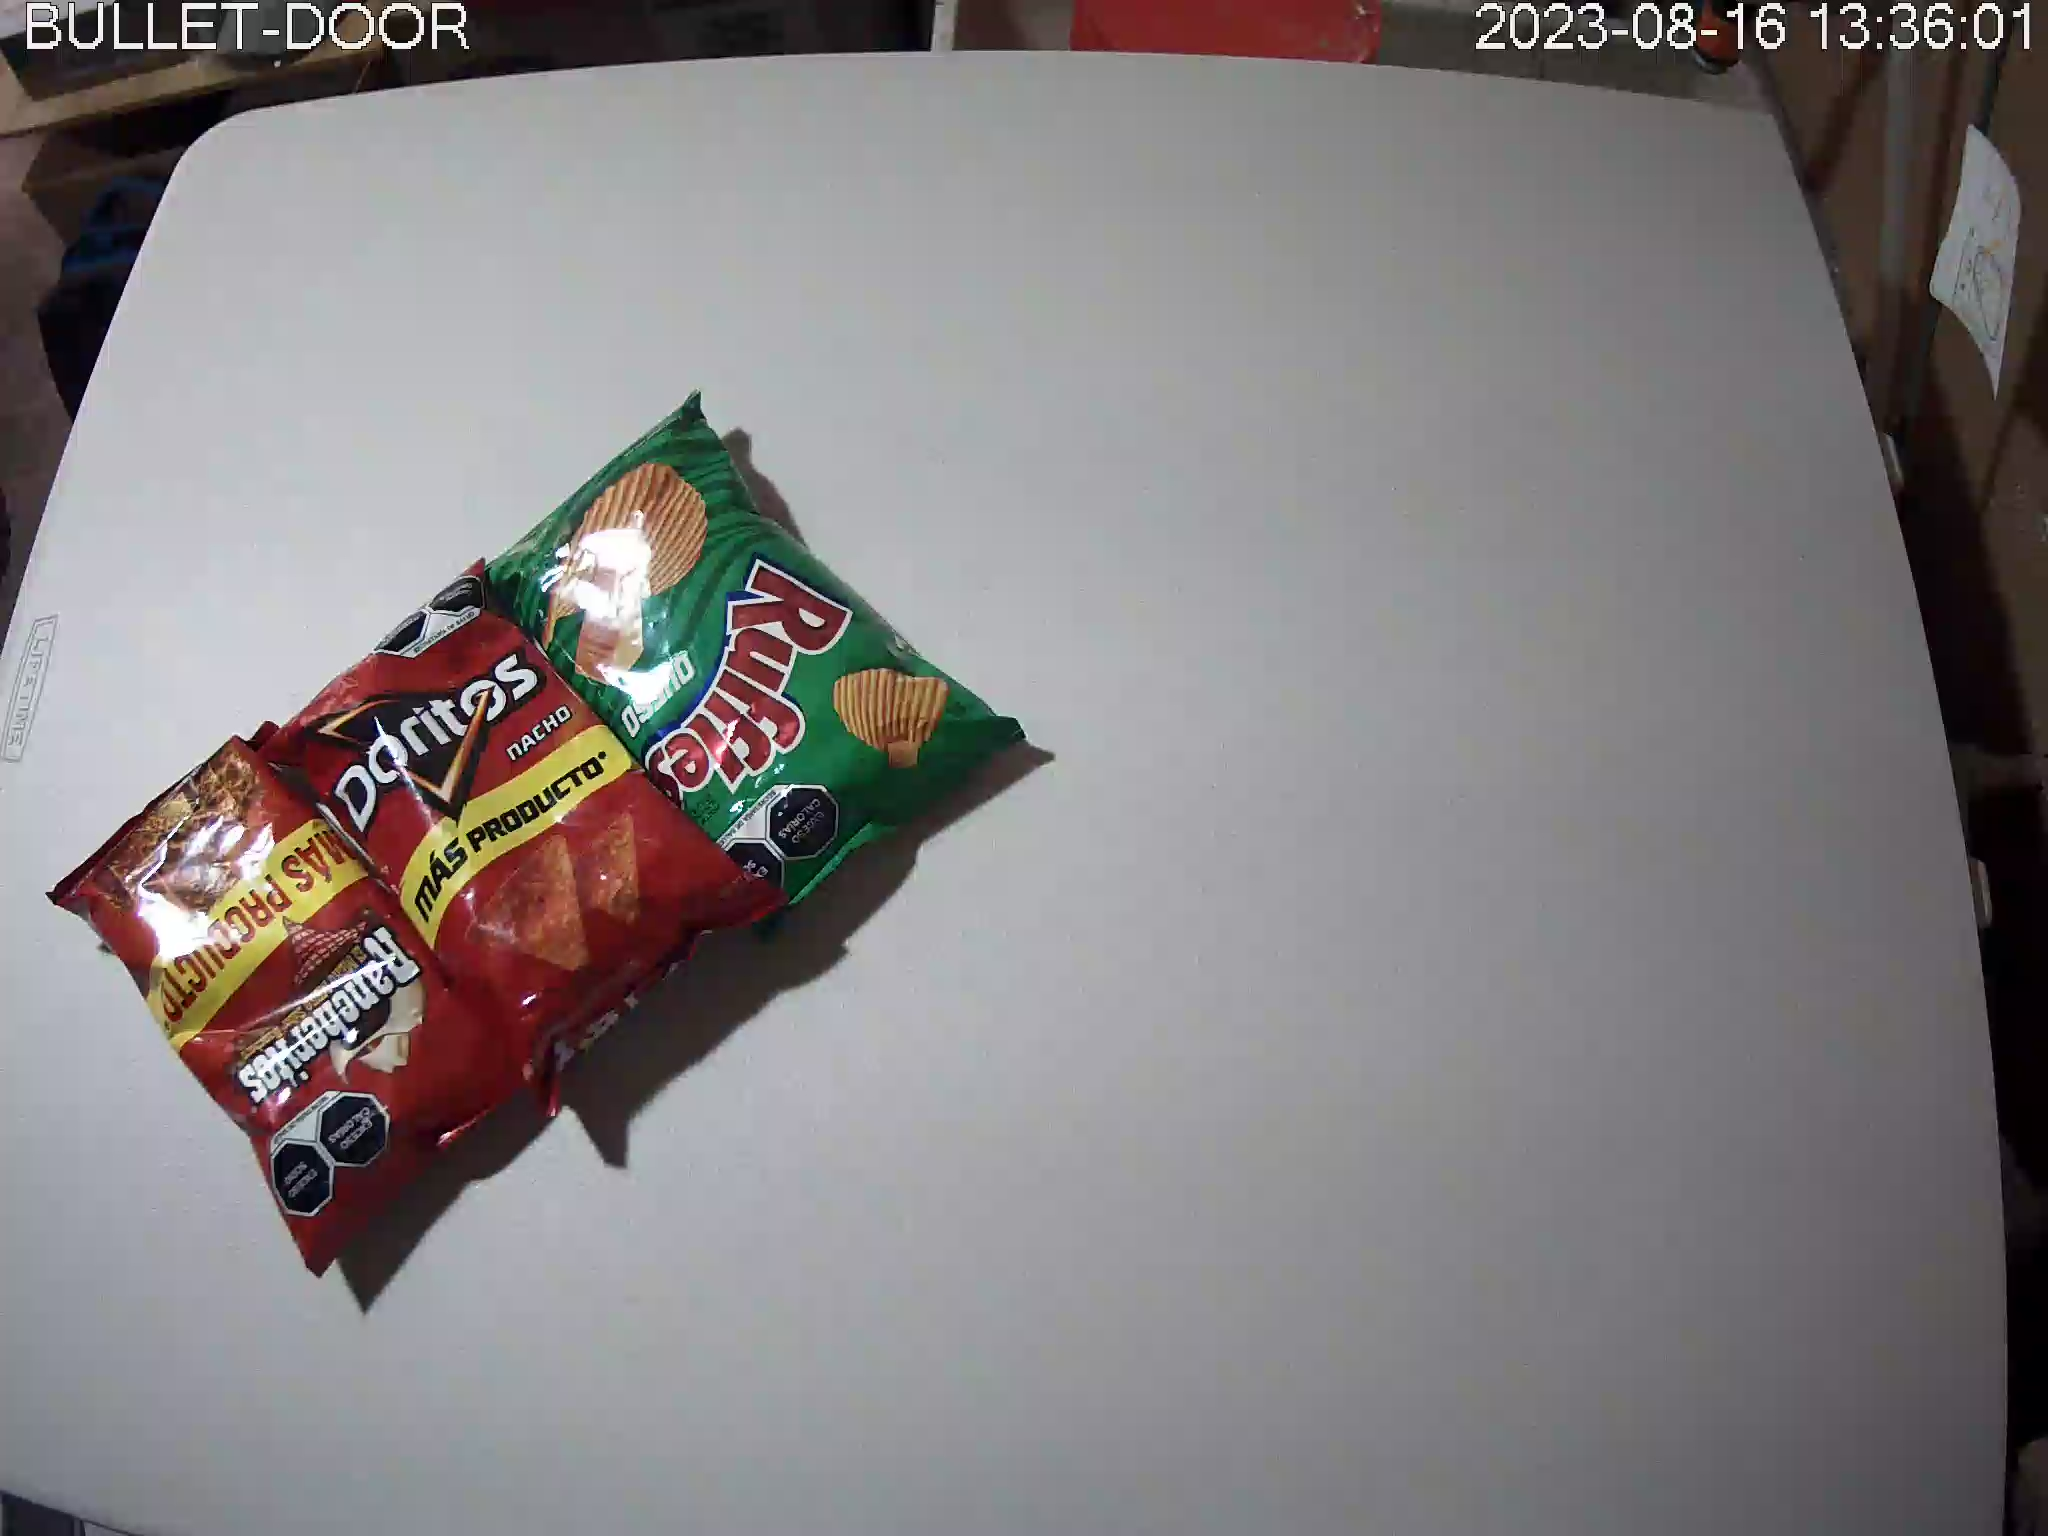DoritosN_61_F: (252, 555, 793, 1118)
Rancheritos_58_F: (45, 718, 572, 1276)
RufflesQ_48_F: (456, 387, 1035, 931)
